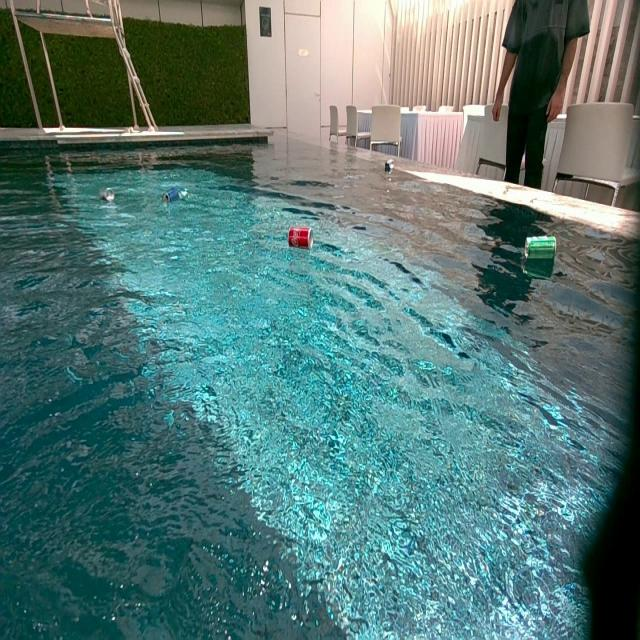Cans: (524, 235, 556, 265), (289, 228, 314, 250), (163, 184, 190, 203), (102, 187, 115, 202), (385, 161, 393, 172)
